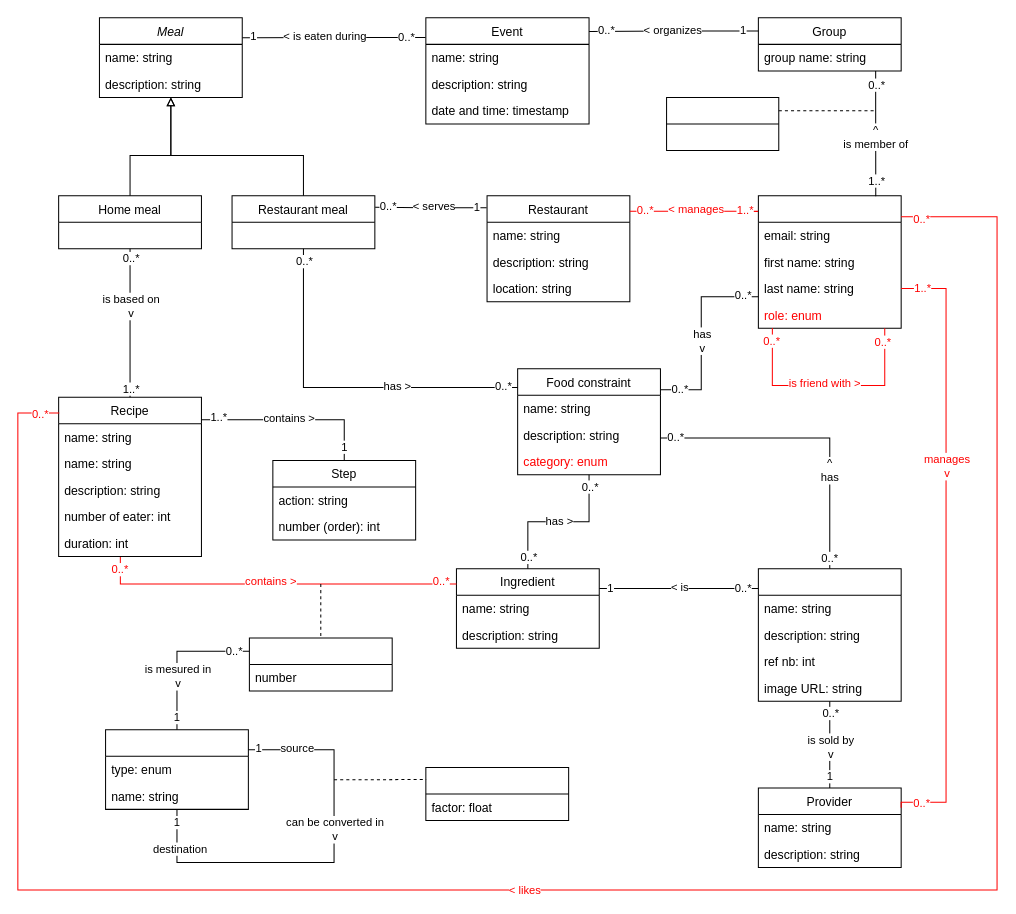
Image size: 1016x914. Some labels were removed from this diagram. The box of each missing label's shape, as (x1, y1, x2, y2) in pixels:
Administrate: (666, 96, 779, 150)
Conversion: (425, 767, 569, 821)
Product: (757, 568, 901, 701)
Quantity: (248, 637, 392, 691)
Unit: (105, 729, 248, 809)
User: (757, 195, 901, 328)
